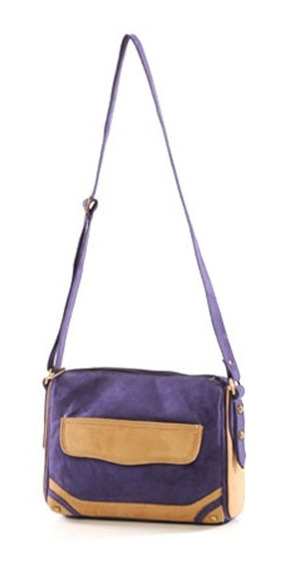cartera: (40, 32, 249, 528)
